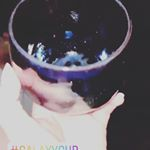cups: (5, 1, 138, 121)
